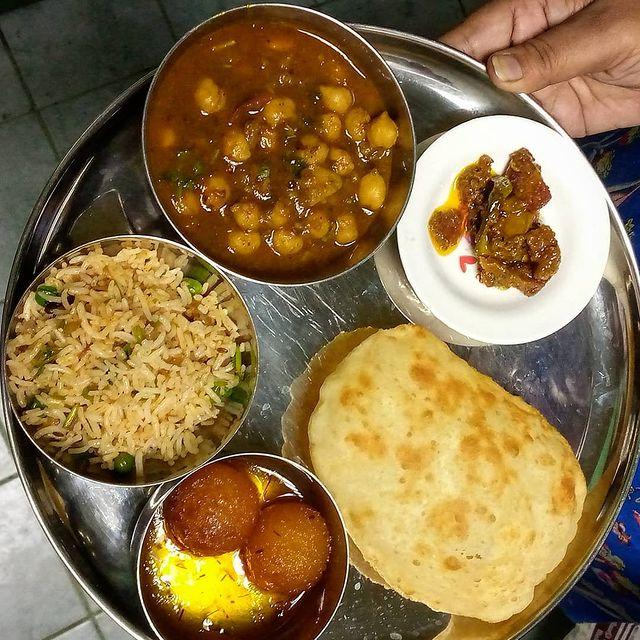Chole: (189, 63, 403, 264)
